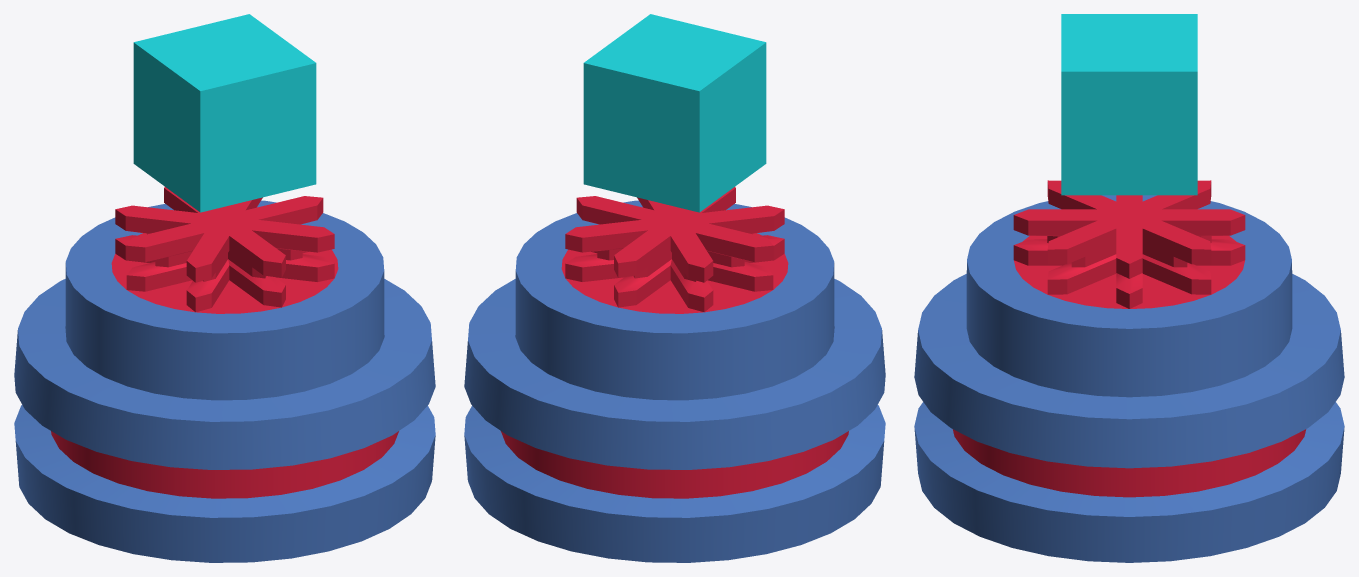
Rendered from ESTRUCTURA_CuyUnit.fbx.
3 renders of one model, left to right at view 1: azimuth 30°, elevation 25°; view 2: azimuth 150°, elevation 25°; view 3: azimuth 270°, elevation 25°, orthographic.
Parts seen in each view (by area): view 1: BASE, Cube, Ariiba_Soporte, Centro_BASE; view 2: BASE, Cube, Ariiba_Soporte, Centro_BASE; view 3: BASE, Cube, Ariiba_Soporte, Centro_BASE.
Boxes of the visible parts, x1,y1,x2,y2 form: BASE: [14, 200, 435, 562]; Cube: [133, 14, 316, 212]; Ariiba_Soporte: [111, 187, 338, 313]; Centro_BASE: [51, 431, 398, 498]; BASE: [464, 200, 885, 562]; Cube: [583, 14, 766, 212]; Ariiba_Soporte: [561, 187, 788, 313]; Centro_BASE: [501, 431, 848, 498]; BASE: [914, 195, 1344, 562]; Cube: [1061, 14, 1197, 195]; Ariiba_Soporte: [1013, 180, 1245, 308]; Centro_BASE: [952, 429, 1306, 497].
Size of the model in its own units: 631 by 697 by 631.
